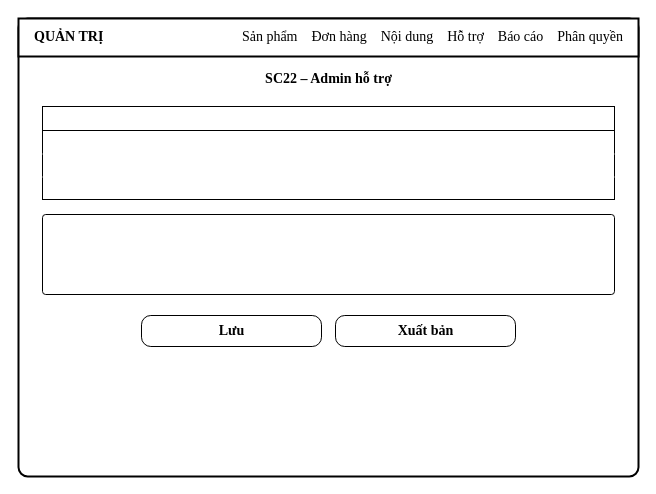
Some shapes in this 656 by 494 pixel diagram are drawn without their labels. The shapes that lost their labels are listed below. From the top down, each one's centre as x and y in pixels, then its label:
point (328, 118): Bài hỗ trợ, bảo hành, sửa chữa, AppleCare
point (328, 254): Soạn / cập nhật nội dung
